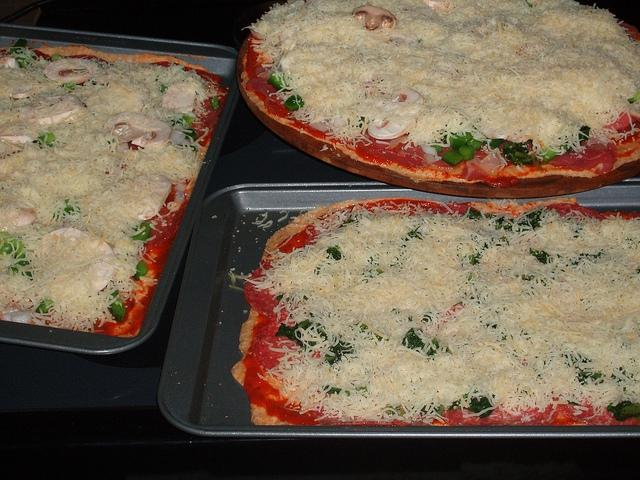bell pepper: (52, 198, 80, 222), (110, 289, 126, 322), (130, 222, 150, 245), (268, 73, 290, 90), (442, 150, 464, 166), (284, 94, 304, 111), (458, 145, 476, 161), (134, 261, 148, 281), (37, 133, 54, 149), (176, 115, 195, 128), (580, 371, 602, 381), (621, 403, 639, 414), (452, 137, 466, 151), (328, 344, 342, 356), (32, 54, 34, 58)
